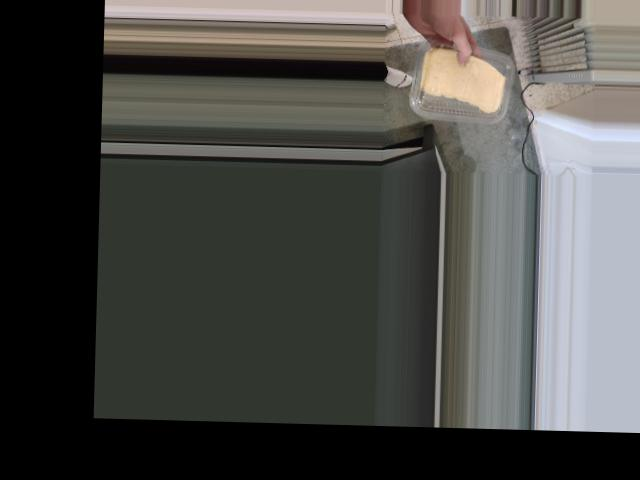cheese: (410, 41, 513, 117)
